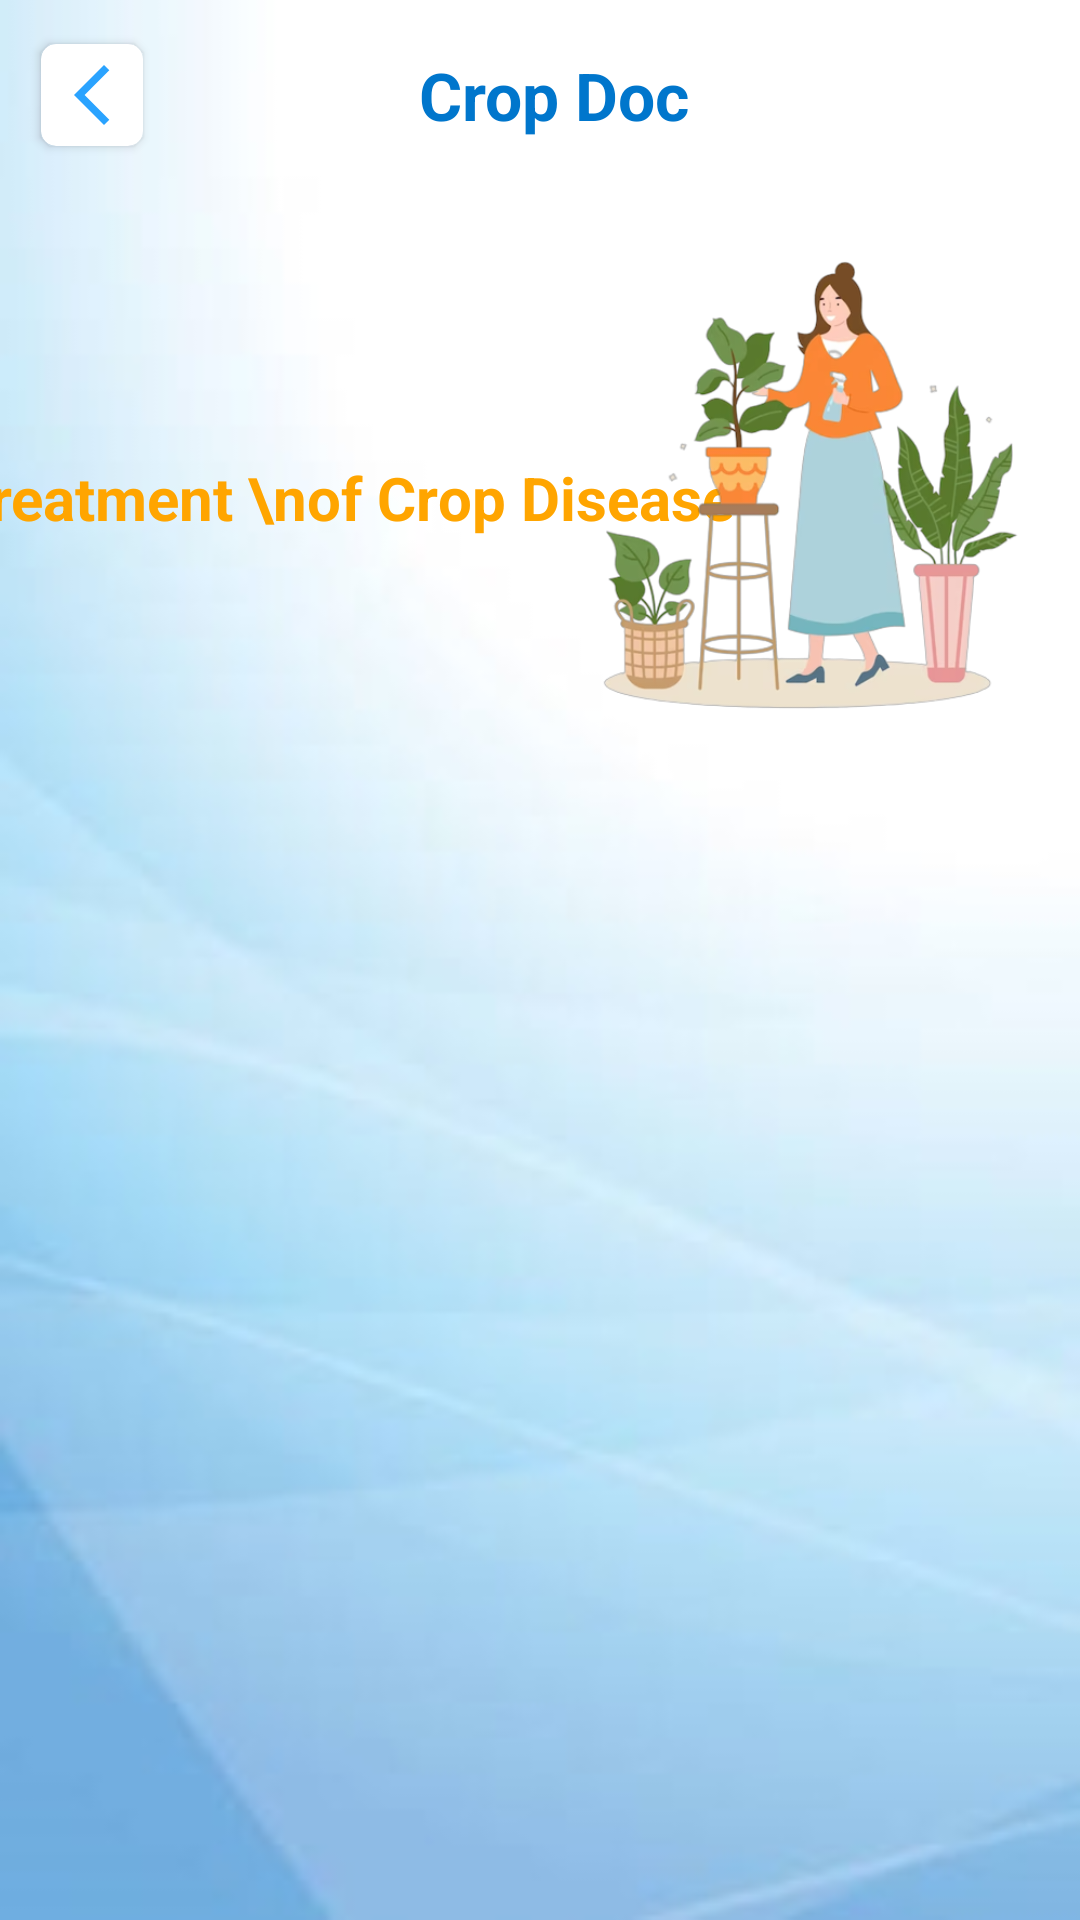

Where icons sit on this 1080px x 1920px app screen, as (x1, y1, x2, y2):
arrow back: (74, 65, 109, 125)
